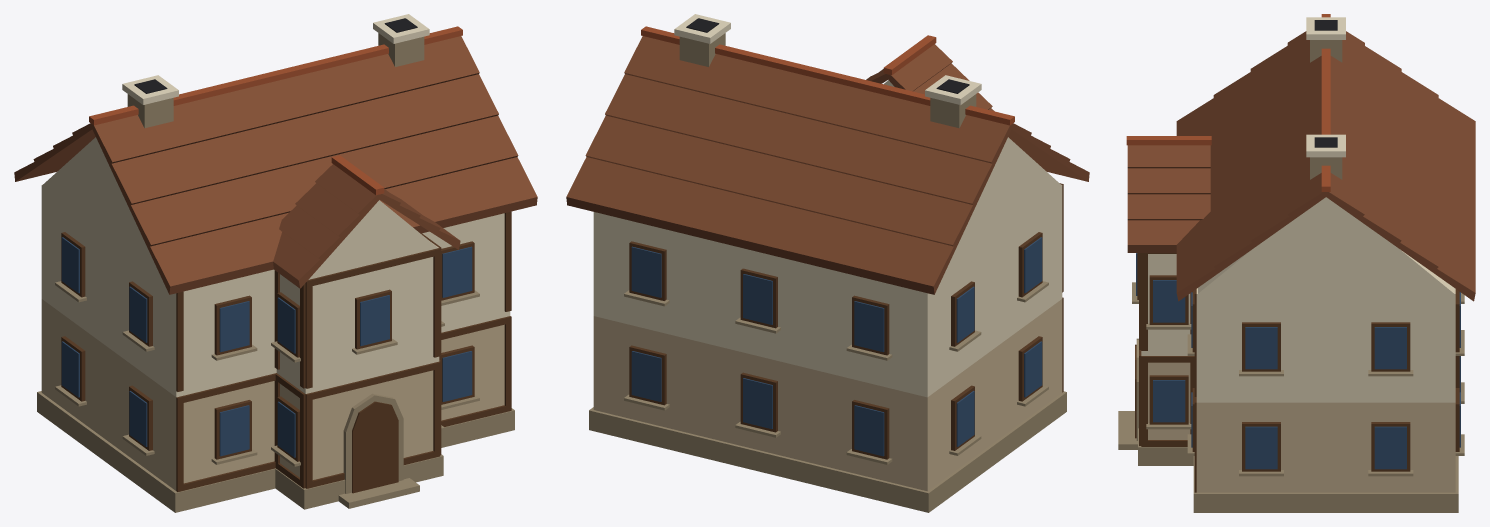
The model's file is House_09_Manor.fbx.
3 views of the same model, side by side, from view 1: azimuth 30°, elevation 25°; view 2: azimuth 150°, elevation 25°; view 3: azimuth 270°, elevation 25° (orthographic). The views are drawn at different scales.
Parts seen in each view (by area): view 1: House_09_Manor; view 2: House_09_Manor; view 3: House_09_Manor.
Part boxes in pixels (x1,y1,x2,y2): House_09_Manor: (14,14,537,512); House_09_Manor: (566,14,1089,512); House_09_Manor: (1118,14,1475,512).
Size of the model in its own units: 8.84 by 8.36 by 7.74.
